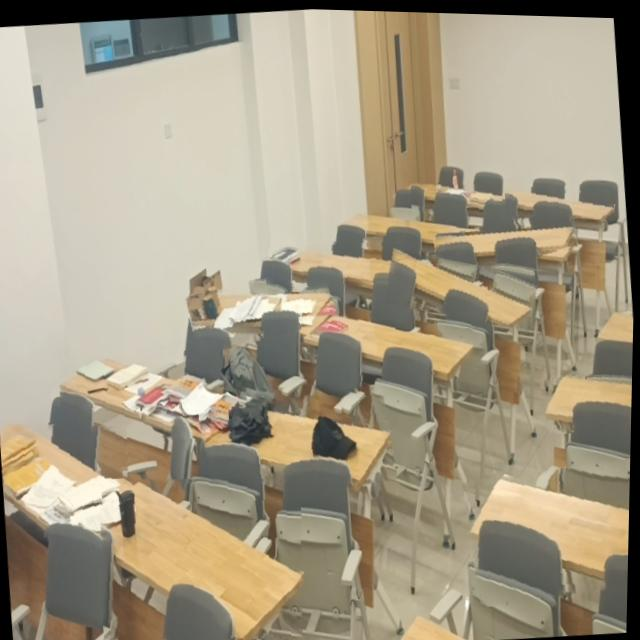Non-empty: (104, 478, 303, 637), (61, 354, 247, 437), (207, 404, 391, 482), (6, 424, 128, 538), (304, 313, 475, 372), (265, 245, 399, 279), (191, 292, 332, 324), (411, 182, 502, 210)
empty: (472, 474, 631, 570), (393, 249, 534, 322), (439, 223, 575, 254), (546, 373, 634, 416), (506, 186, 614, 216)
